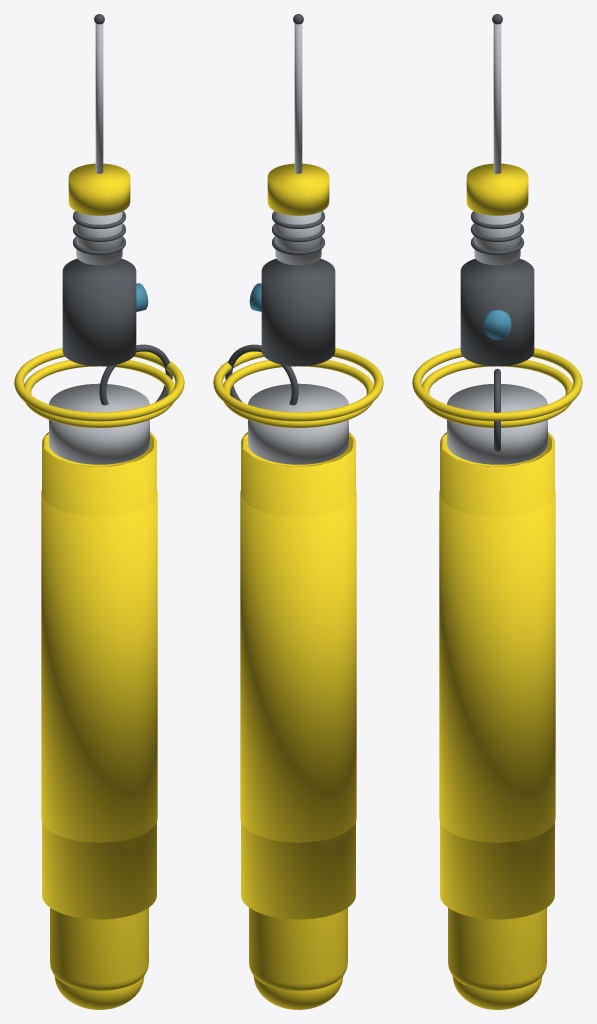
File: argo_float.glb
The picture shows the model from 3 angles, left to right: view 1: azimuth 30°, elevation 25°; view 2: azimuth 150°, elevation 25°; view 3: azimuth 270°, elevation 25°; orthographic projection.
Visible parts, largest first — view 1: Cutaway_Hull_Cover, Pressure_Hull_Shell, CTD_Sensor_Payload, Buoyancy_Bladder, Top_End_Cap, Antenna_GPS_Module, Stability_Collar_2, Stability_Collar_1, GPS_Receiver, Lower_Pressure_Case, Antenna_Rod, Deployment_Lifting_Bail; view 2: Cutaway_Hull_Cover, Pressure_Hull_Shell, CTD_Sensor_Payload, Buoyancy_Bladder, Top_End_Cap, Antenna_GPS_Module, Stability_Collar_2, Stability_Collar_1, GPS_Receiver, Lower_Pressure_Case, Antenna_Rod, Deployment_Lifting_Bail; view 3: Cutaway_Hull_Cover, Pressure_Hull_Shell, Buoyancy_Bladder, CTD_Sensor_Payload, Top_End_Cap, Stability_Collar_2, Antenna_GPS_Module, Stability_Collar_1, GPS_Receiver, Lower_Pressure_Case, Antenna_Rod, Sensor_Port (+1 smaller).
Boxes of the visible parts, bbox=[...] form: Cutaway_Hull_Cover: bbox=[41, 490, 157, 842]; Pressure_Hull_Shell: bbox=[42, 432, 156, 919]; CTD_Sensor_Payload: bbox=[62, 258, 136, 366]; Buoyancy_Bladder: bbox=[50, 908, 148, 990]; Top_End_Cap: bbox=[49, 383, 149, 464]; Antenna_GPS_Module: bbox=[68, 163, 130, 215]; Stability_Collar_2: bbox=[14, 348, 184, 421]; Stability_Collar_1: bbox=[24, 360, 174, 427]; GPS_Receiver: bbox=[76, 211, 122, 265]; Lower_Pressure_Case: bbox=[54, 976, 144, 1009]; Antenna_Rod: bbox=[95, 23, 103, 173]; Deployment_Lifting_Bail: bbox=[99, 344, 172, 405]; Cutaway_Hull_Cover: bbox=[240, 490, 356, 842]; Pressure_Hull_Shell: bbox=[241, 432, 355, 919]; CTD_Sensor_Payload: bbox=[261, 258, 335, 366]; Buoyancy_Bladder: bbox=[249, 908, 347, 990]; Top_End_Cap: bbox=[248, 383, 348, 464]; Antenna_GPS_Module: bbox=[267, 163, 329, 215]; Stability_Collar_2: bbox=[213, 348, 383, 421]; Stability_Collar_1: bbox=[223, 360, 373, 427]; GPS_Receiver: bbox=[275, 211, 321, 265]; Lower_Pressure_Case: bbox=[253, 976, 343, 1009]; Antenna_Rod: bbox=[294, 23, 302, 173]; Deployment_Lifting_Bail: bbox=[225, 344, 298, 405]; Cutaway_Hull_Cover: bbox=[439, 490, 555, 842]; Pressure_Hull_Shell: bbox=[440, 432, 554, 919]; Buoyancy_Bladder: bbox=[448, 908, 546, 990]; CTD_Sensor_Payload: bbox=[460, 258, 534, 366]; Top_End_Cap: bbox=[447, 384, 547, 464]; Stability_Collar_2: bbox=[412, 348, 582, 421]; Antenna_GPS_Module: bbox=[466, 163, 528, 215]; Stability_Collar_1: bbox=[422, 360, 572, 427]; GPS_Receiver: bbox=[474, 211, 520, 265]; Lower_Pressure_Case: bbox=[452, 976, 542, 1009]; Antenna_Rod: bbox=[493, 23, 501, 173]; Sensor_Port: bbox=[483, 310, 511, 339].
Bounding box in the file's own units: 0.222 × 1.42 × 0.222.
